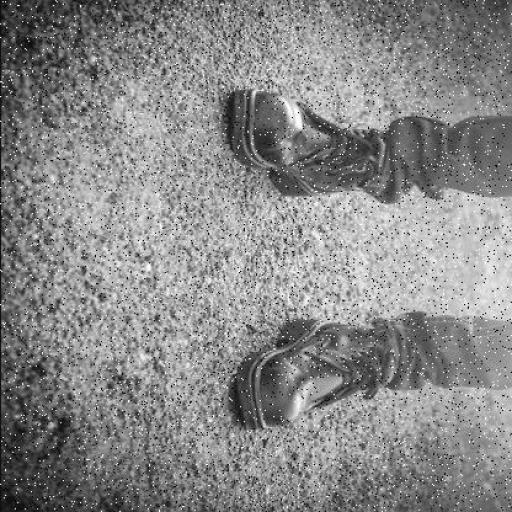safety_shoe: (240, 319, 378, 428), (240, 92, 372, 196)
